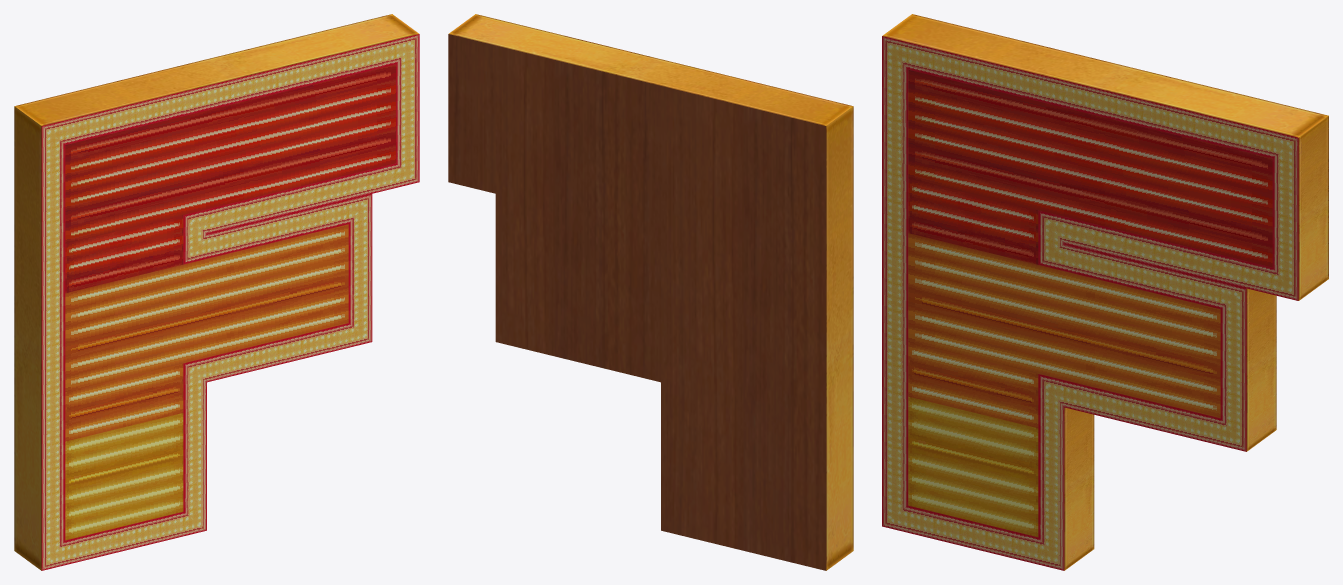
Rendered from letter_F.obj.
3 renders of one model, left to right at view 1: azimuth 30°, elevation 25°; view 2: azimuth 150°, elevation 25°; view 3: azimuth 330°, elevation 25°, orthographic. The views are drawn at different scales.
Parts seen in each view (by area): view 1: Object_1; view 2: Object_1; view 3: Object_1.
Part boxes in pixels (bbox=[...]): Object_1: bbox=[14, 14, 419, 570]; Object_1: bbox=[448, 14, 853, 570]; Object_1: bbox=[882, 14, 1328, 570].
Size of the model in its own units: 80 by 90 by 10.
